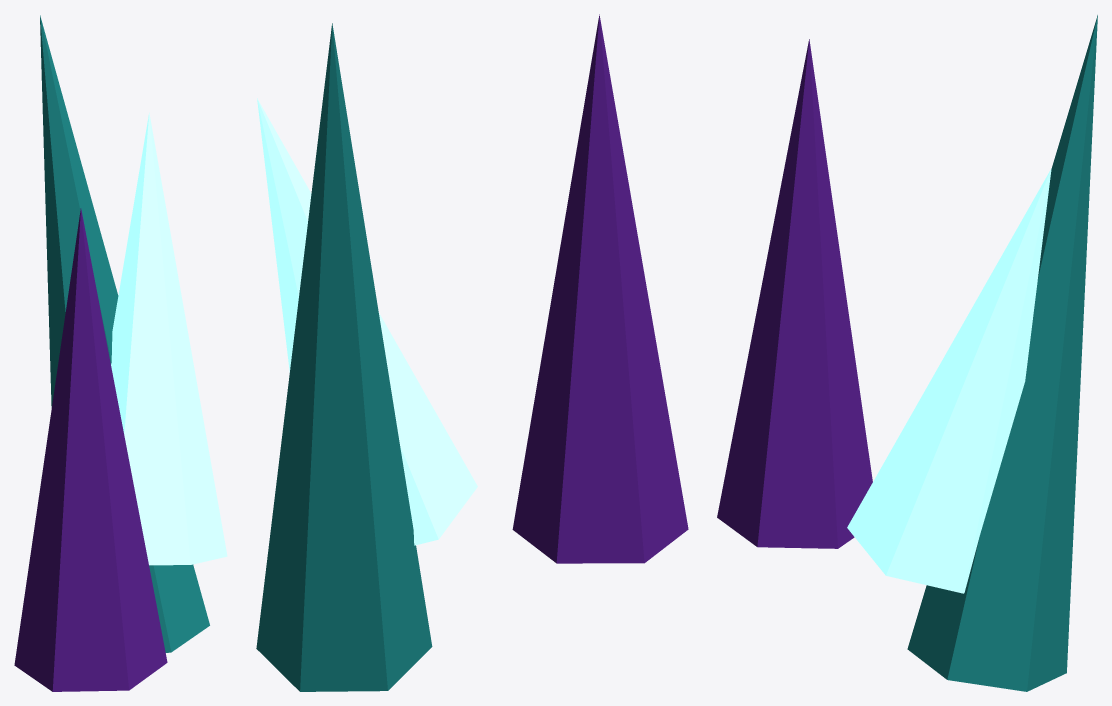
File: Prop_OR_Crystal_08.glb
3 views of the same model, side by side, from view 1: azimuth 30°, elevation 25°; view 2: azimuth 150°, elevation 25°; view 3: azimuth 270°, elevation 25° (orthographic). The views are drawn at different scales.
Visible parts, largest first — view 1: Prop_OR_Crystal_08; view 2: Prop_OR_Crystal_08; view 3: Prop_OR_Crystal_08.
Boxes of the visible parts, x1=… form: Prop_OR_Crystal_08: x1=14, y1=15, x2=227, y2=691; Prop_OR_Crystal_08: x1=256, y1=14, x2=688, y2=691; Prop_OR_Crystal_08: x1=717, y1=15, x2=1097, y2=691.
Bounding box in the file's own units: 0.468 × 1.09 × 0.5897.
